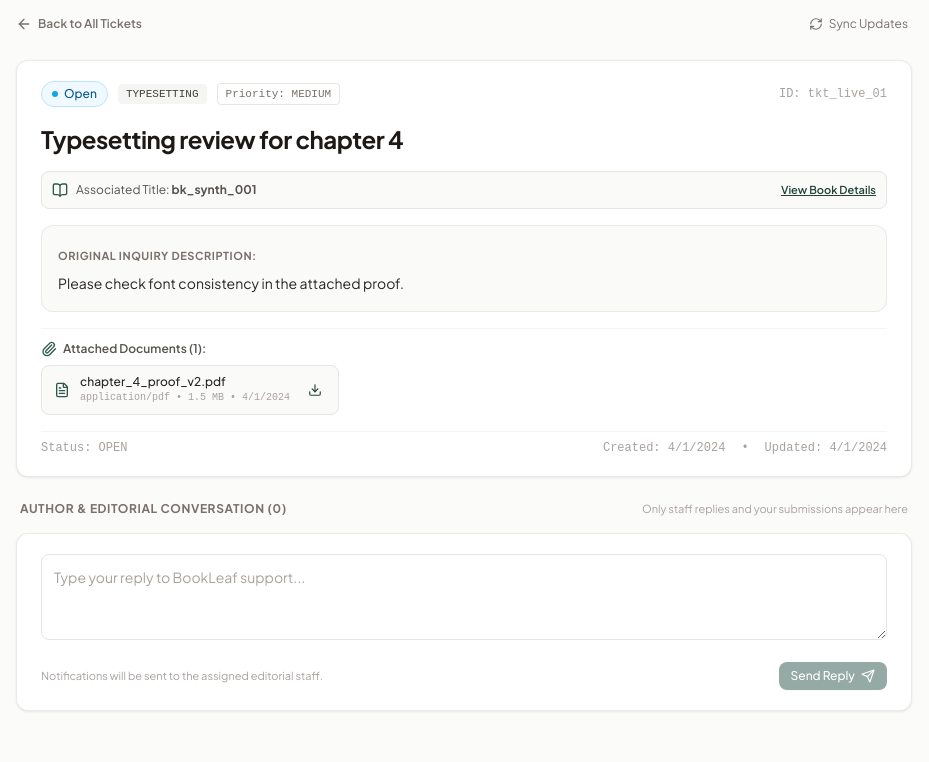
Test: Attachment Upload & Download Integration Suite › renders real attachment metadata in TicketDetailPage and initiates real download
Check: the text "chapter_4_proof_v2.pdf" is shown, box [80,374,226,389]
Check: the text "application/pdf" is shown, box [80,390,170,406]
# Click download button
Click the button titled "Download chapter_4_proof_v2.pdf": (315, 390) [304,379,326,401]
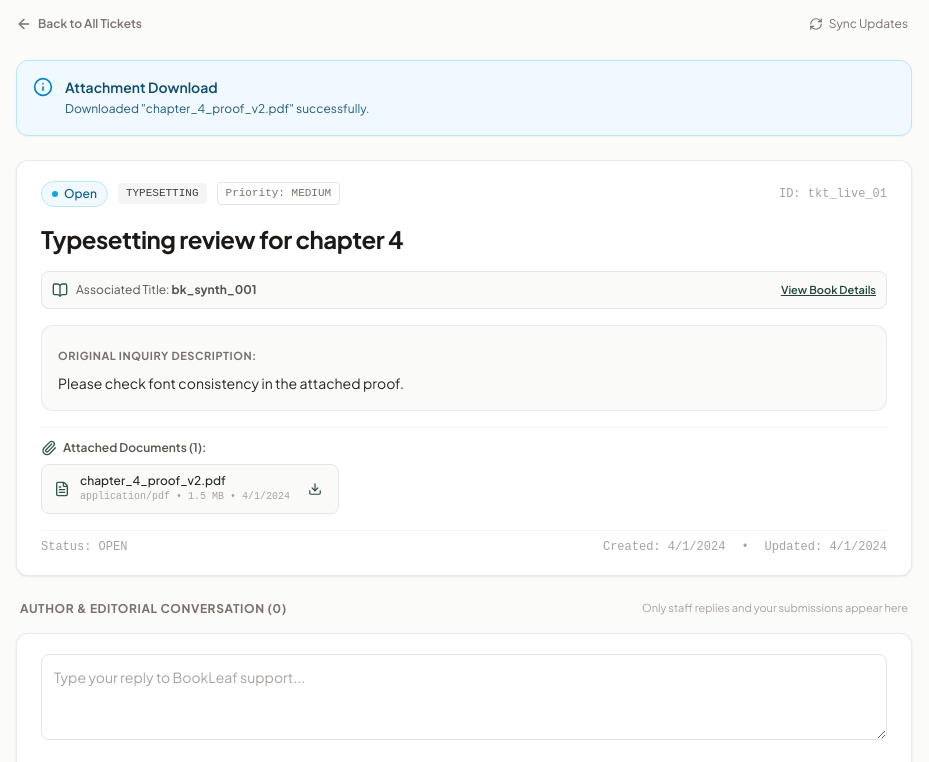
Check: the text "Downloaded \"chapter_4_proof_v2.pdf\" successfully." is shown, box [65,101,370,116]
